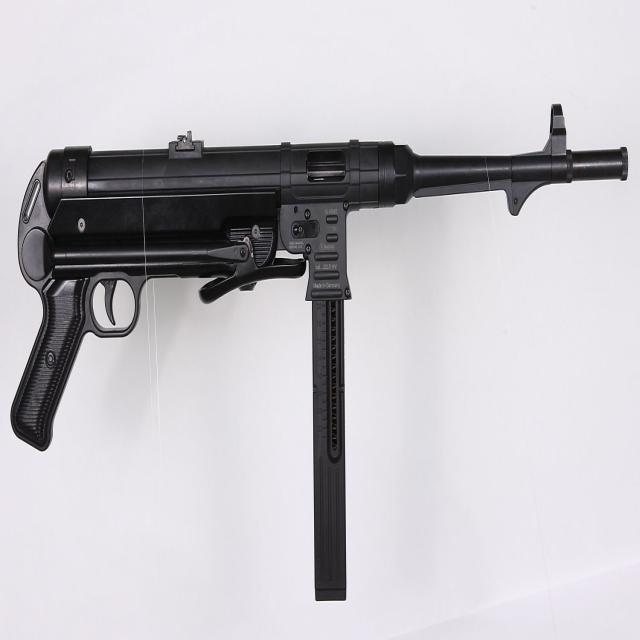SMG: (10, 104, 633, 603)
